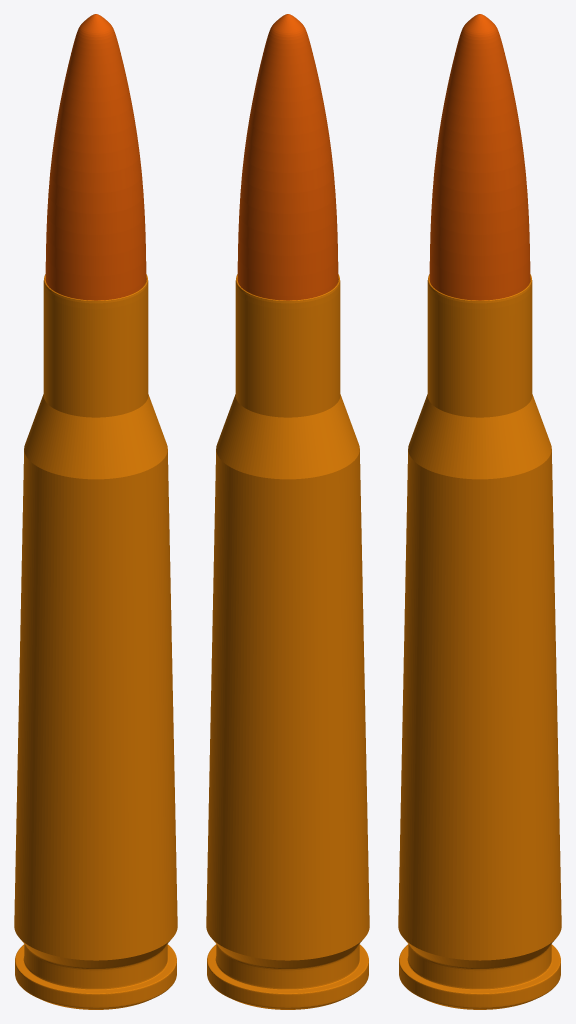
The model's file is 50bmg.fbx.
3 renders of one model, left to right at view 1: azimuth 30°, elevation 25°; view 2: azimuth 150°, elevation 25°; view 3: azimuth 270°, elevation 25°, orthographic.
Parts seen in each view (by area): view 1: Cylinder, Cylinder.001; view 2: Cylinder, Cylinder.001; view 3: Cylinder, Cylinder.001.
Part boxes in pixels (x1,y1,x2,y2): Cylinder: (14, 274, 177, 1009); Cylinder.001: (45, 14, 146, 300); Cylinder: (206, 274, 369, 1009); Cylinder.001: (237, 14, 338, 300); Cylinder: (398, 274, 561, 1009); Cylinder.001: (429, 14, 530, 300).
Size of the model in its own units: 53.56 by 349 by 53.56.
